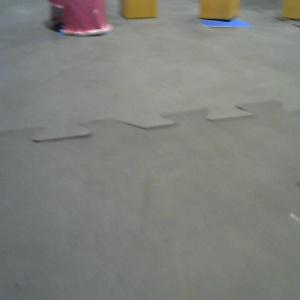middle: (48, 1, 113, 36)
